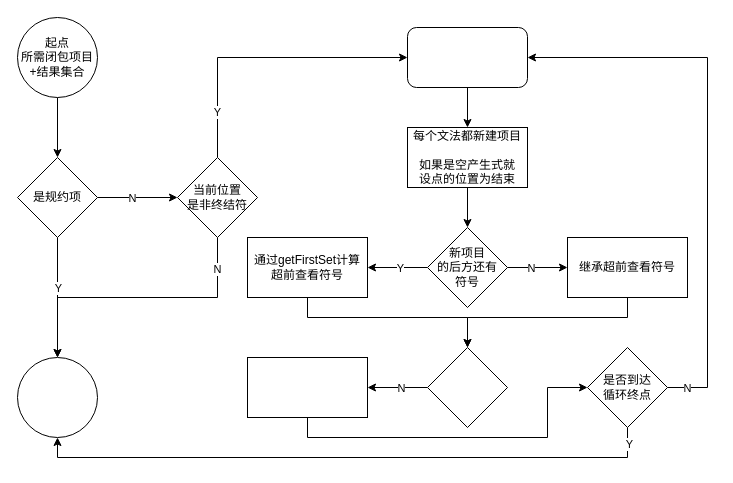
Some shapes in this 733 by 483 pixel diagram are drawn without their labels. The shapes that lost their labels are listed below. From the top down, each one's centre as x and y in pixels, then its label:
the point at 467,57: 遍历文法左侧 符号 与当前 非终结符 匹配的 文法
the point at 57,397: 结束
the point at 307,387: 将该项目插入 结果集合
the point at 467,387: 结果集合中 包含该项目
